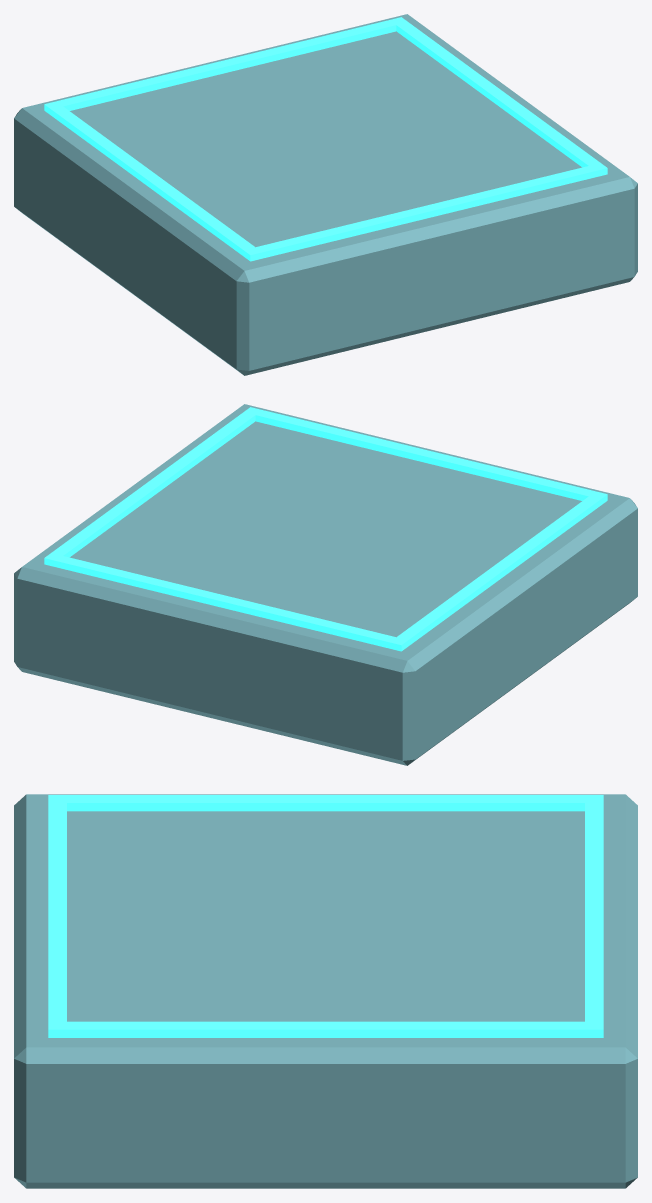
The model's file is Plataforma_2x2.fbx.
3 renders of one model, top to bottom at view 1: azimuth 30°, elevation 25°; view 2: azimuth 150°, elevation 25°; view 3: azimuth 270°, elevation 25°, orthographic. The views are drawn at different scales.
Parts seen in each view (by area): view 1: Plataforma_2x2; view 2: Plataforma_2x2; view 3: Plataforma_2x2.
Part boxes in pixels (<box>): Plataforma_2x2: <box>14,14,637,375</box>; Plataforma_2x2: <box>14,404,637,765</box>; Plataforma_2x2: <box>14,794,637,1188</box>.
Bounding box in the file's own units: 2 × 0.53 × 2.
